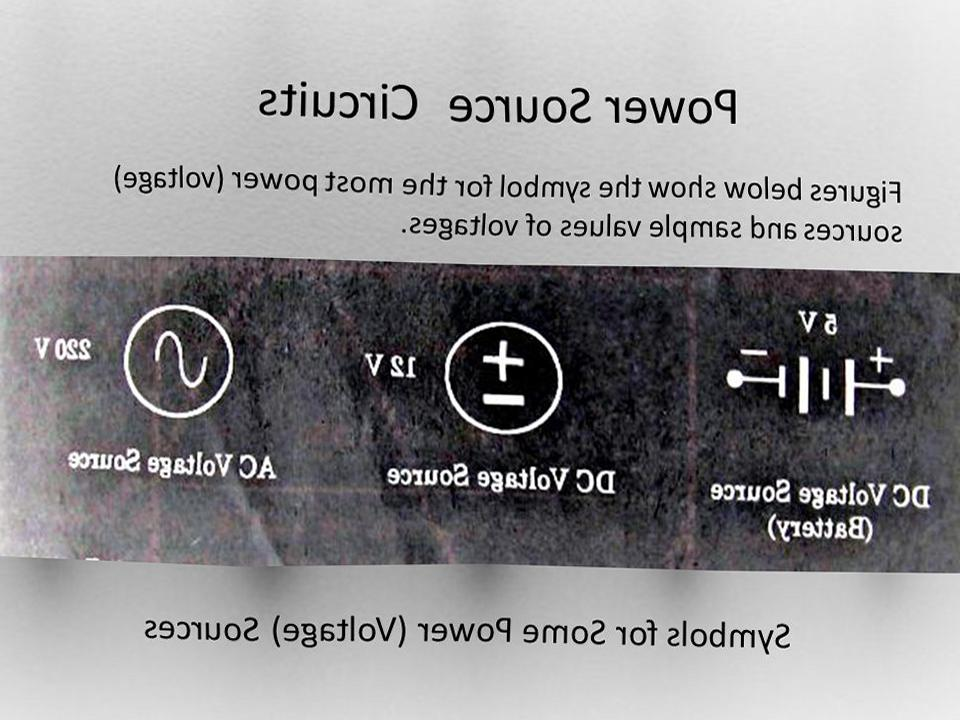Battery: (423, 296, 592, 458)
